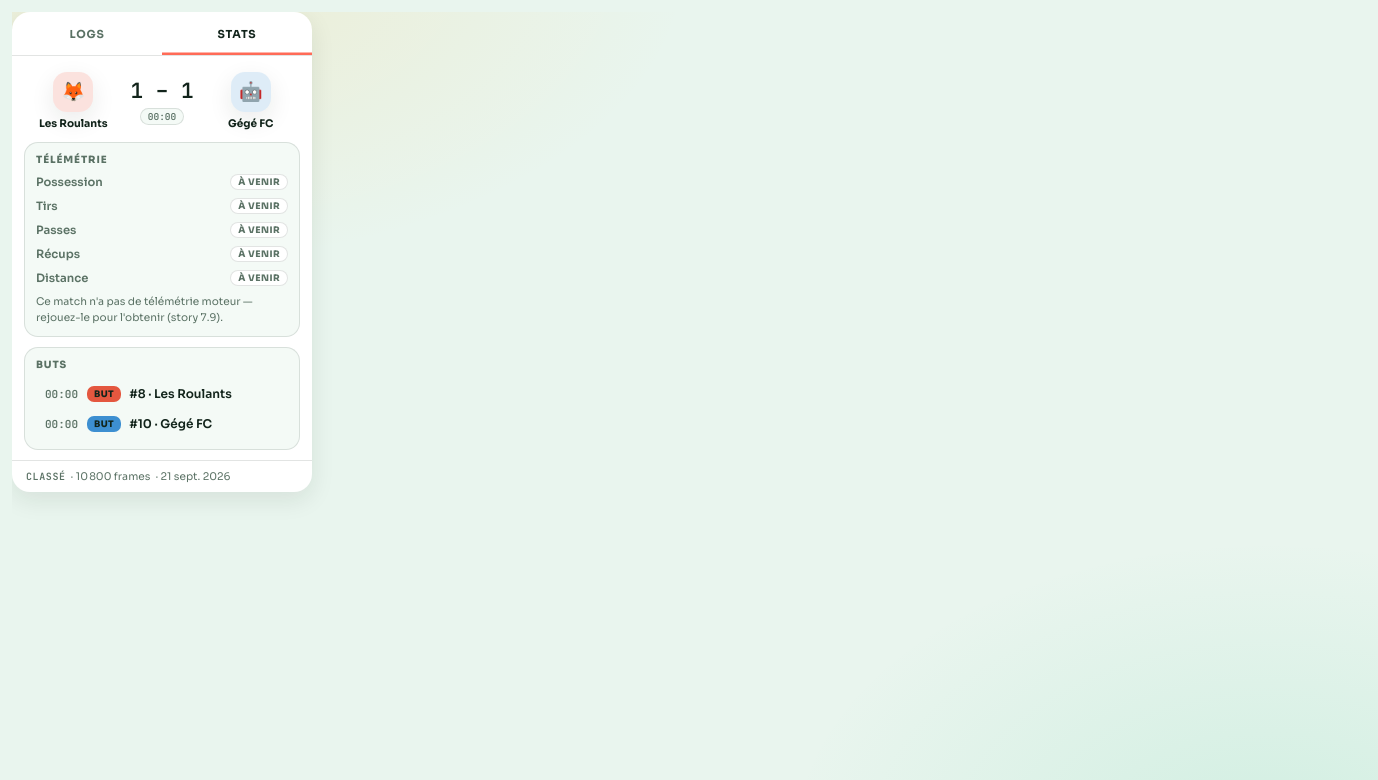
it: ReplayDrawer › switches to the Logs tab with goal rows and windowed logs
The width and height of the screenshot is (1378, 780).
Click the tab with test id "drawer-tab-logs".
click(87, 34)  # box [12,12,162,55]
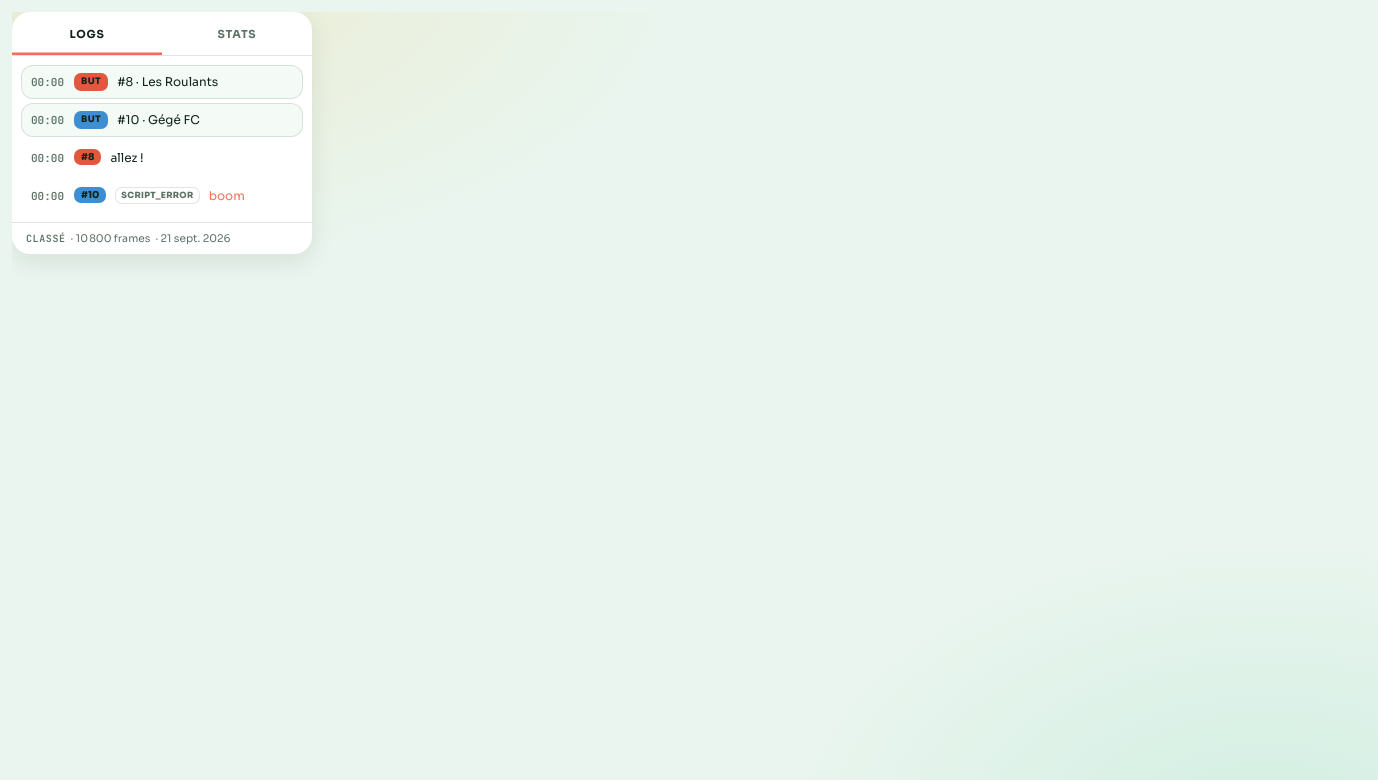
Expected: the text "boom" is shown, [209,187,245,205]
